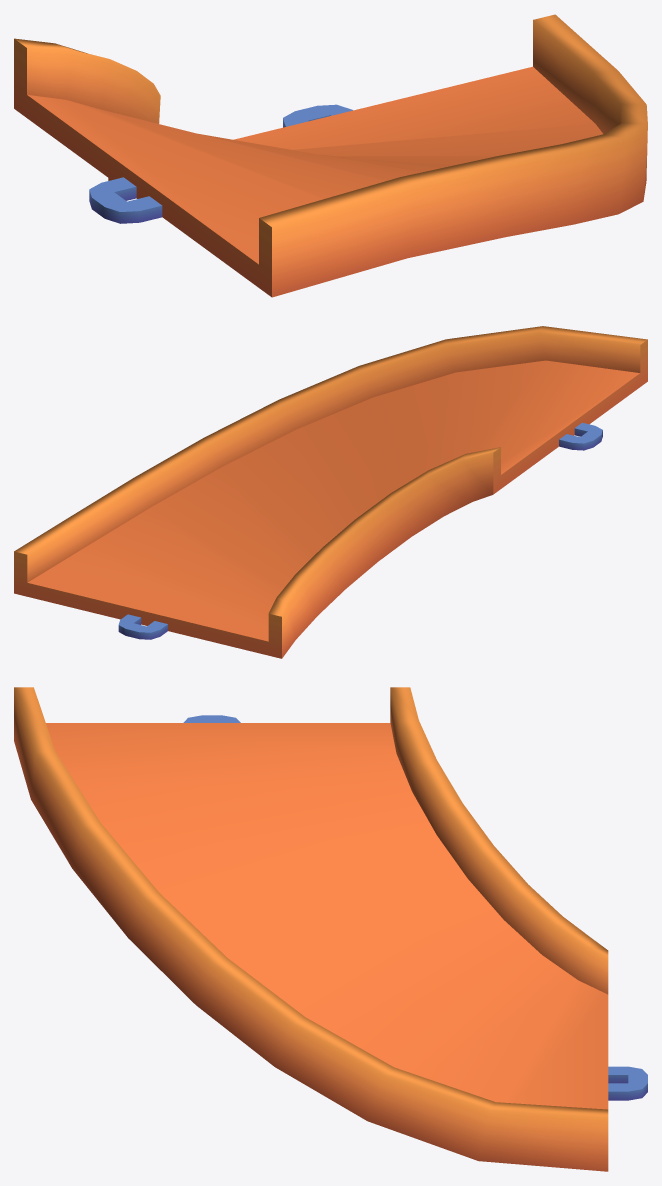
File: kenney-toy-car-track-wide-corner-small-ramp.glb
3 renders of one model, top to bottom at view 1: azimuth 30°, elevation 25°; view 2: azimuth 150°, elevation 25°; view 3: azimuth 270°, elevation 25°, orthographic. The views are drawn at different scales.
Visible parts, largest first — view 1: track-wide-corner-small-ramp; view 2: track-wide-corner-small-ramp; view 3: track-wide-corner-small-ramp.
Boxes of the visible parts, x1,y1,x2,y2 form: track-wide-corner-small-ramp: (14, 14, 647, 297); track-wide-corner-small-ramp: (14, 326, 647, 658); track-wide-corner-small-ramp: (14, 687, 647, 1171).
Bounding box in the file's own units: 3.2 × 1.3 × 3.2.
1 material, 1 textured.
